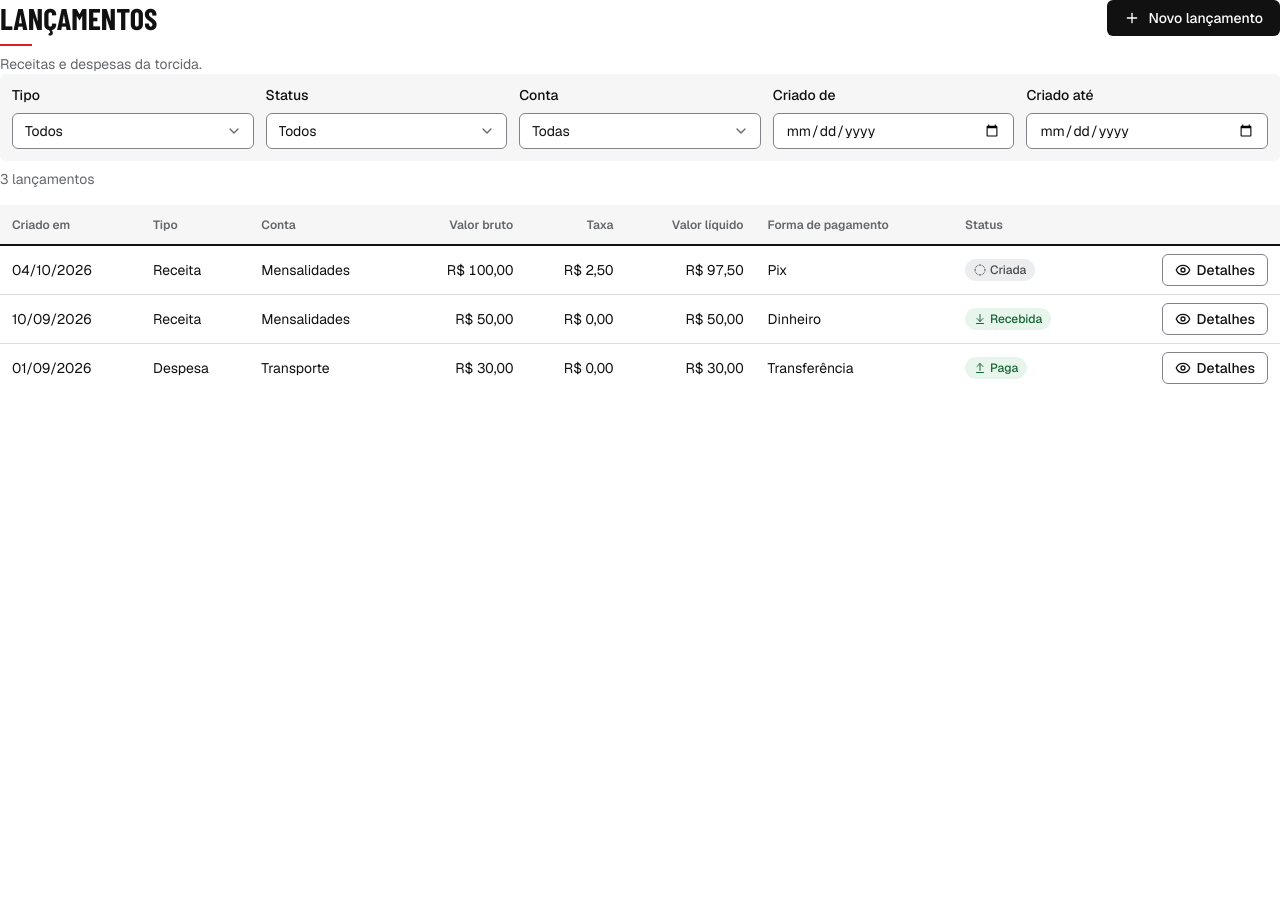
erros da API junto do campo › lancamento_tipo_incompativel
Expected: the heading "Lançamentos" is shown, [0,0,157,46]
Click the button "Novo lançamento" at point(1194, 18), box [1107,0,1279,36]
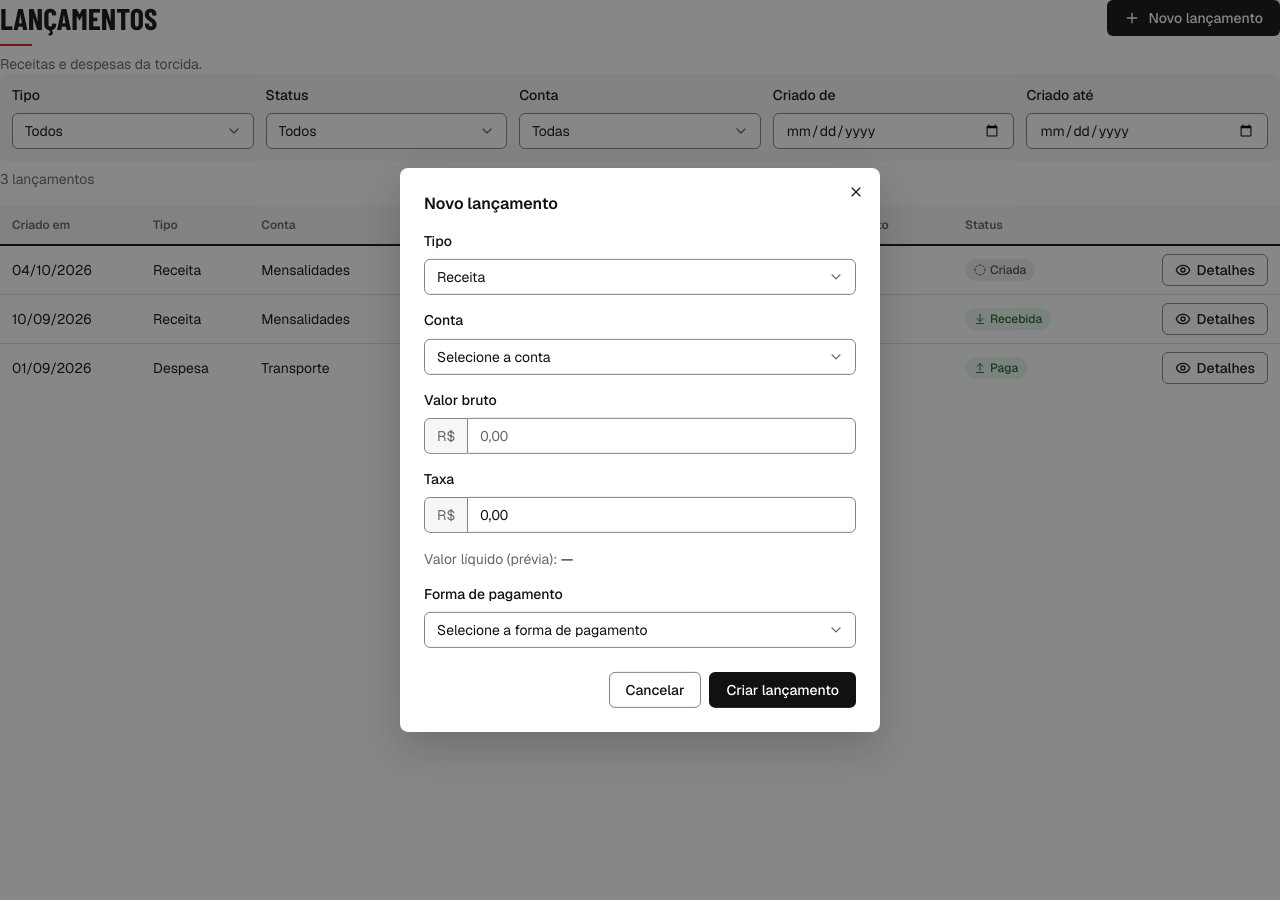
Expected: the dialog is shown, [400,168,880,732]
Select "Mensalidades" in the dropdown labelled "Conta" at point(640, 356), box [424,338,856,374]
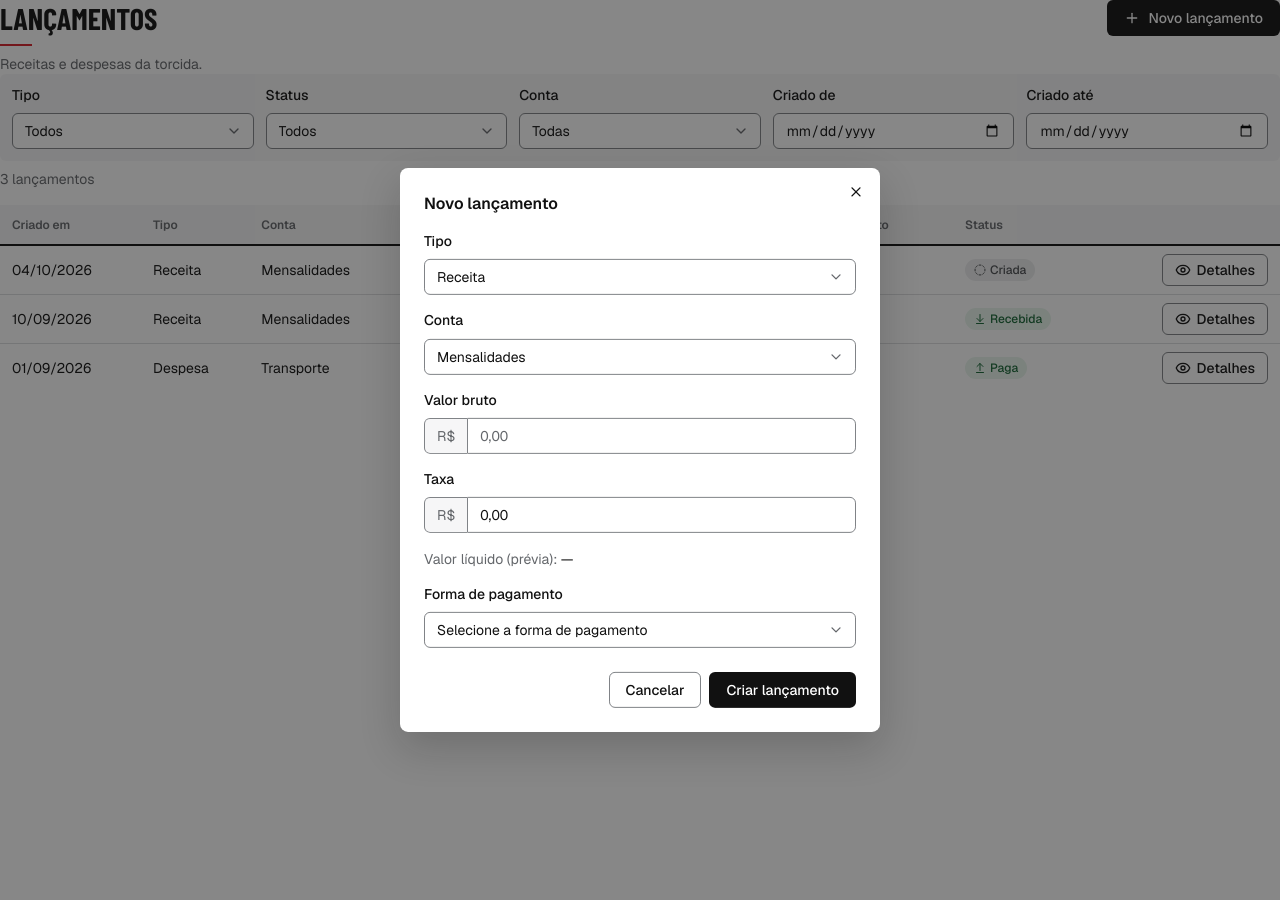
Type "10,00" into the field labelled "Valor bruto" at point(662, 436), box [467,418,856,454]
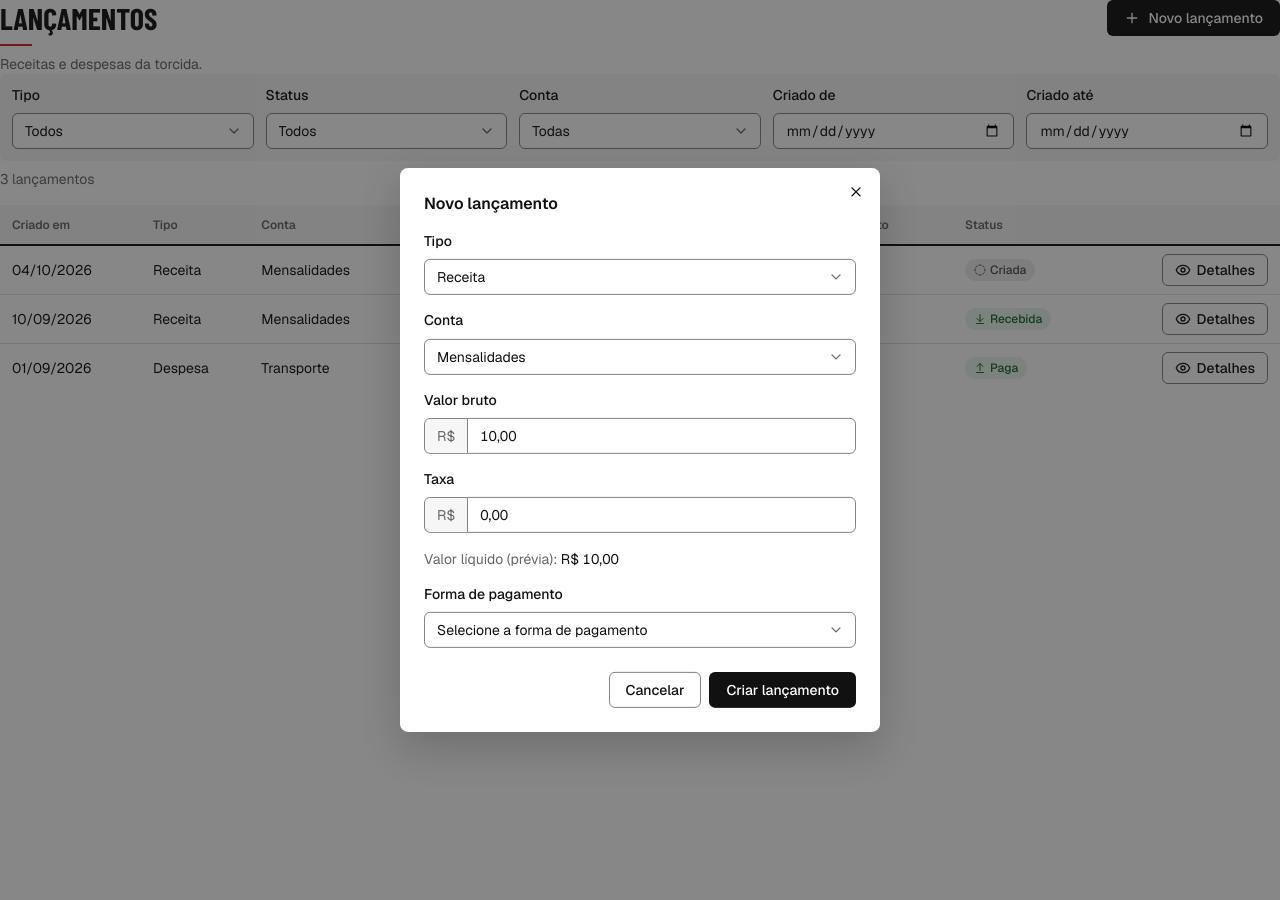
Select "Pix" in the dropdown labelled "Forma de pagamento" at point(640, 630), box [424,612,856,648]
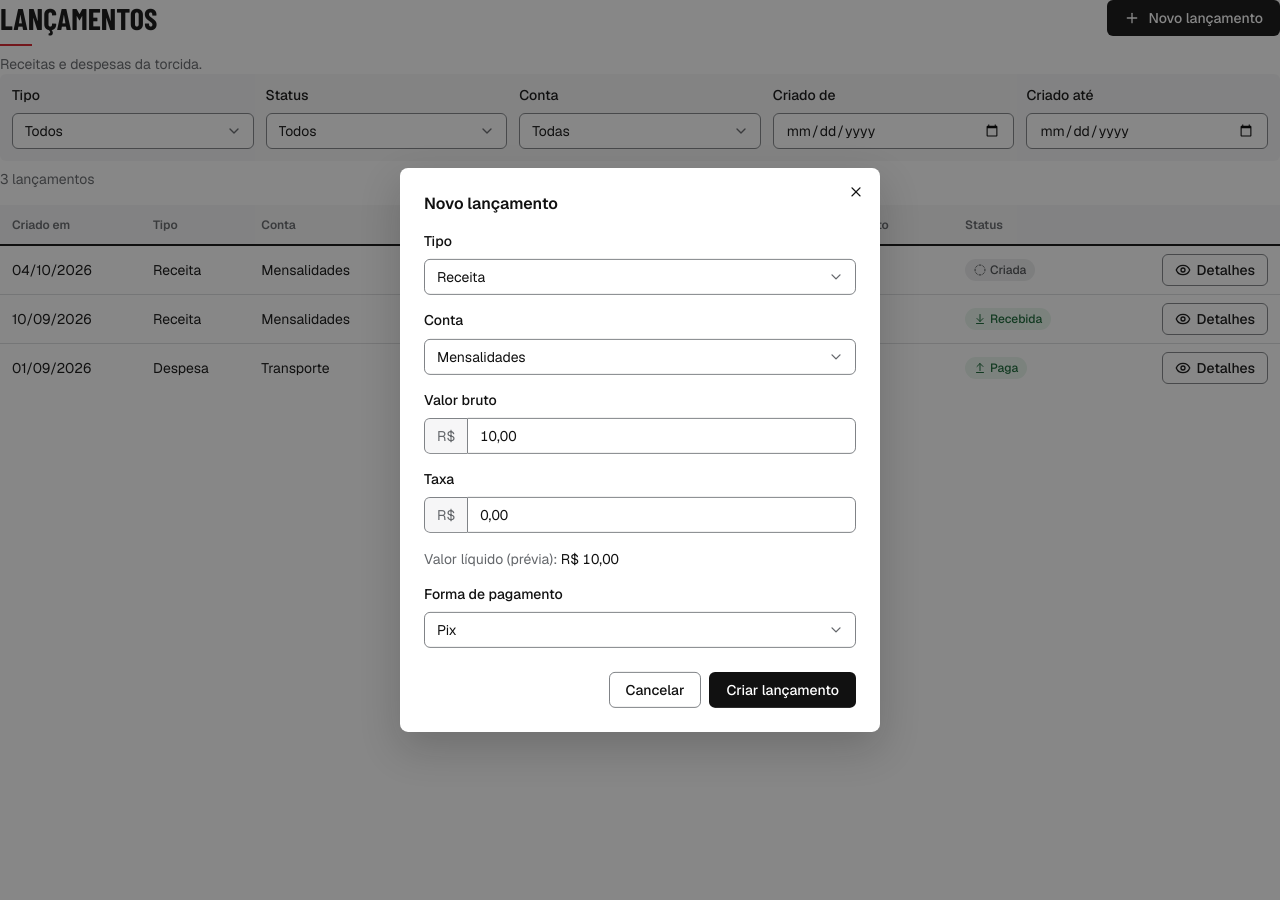
Click the button "Criar lançamento" at point(783, 690), box [710,672,856,708]
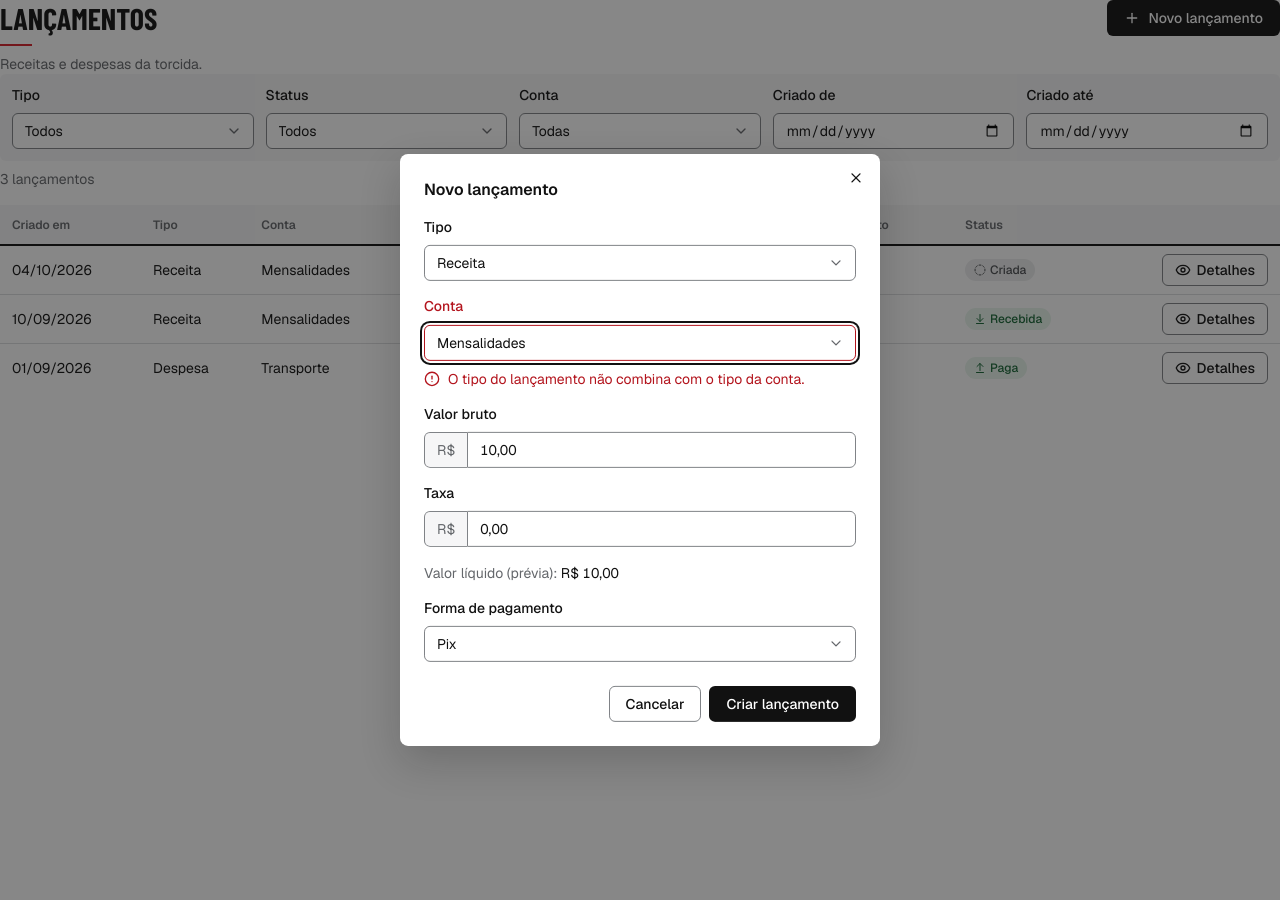
Expected: the dialog is shown, [400,154,880,746]
Expected: the text "O tipo do lançamento não combina com o tipo da conta." is shown, [424,368,856,388]
